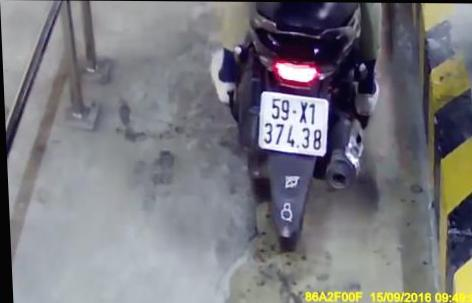License_Plate: (247, 85, 336, 161)
